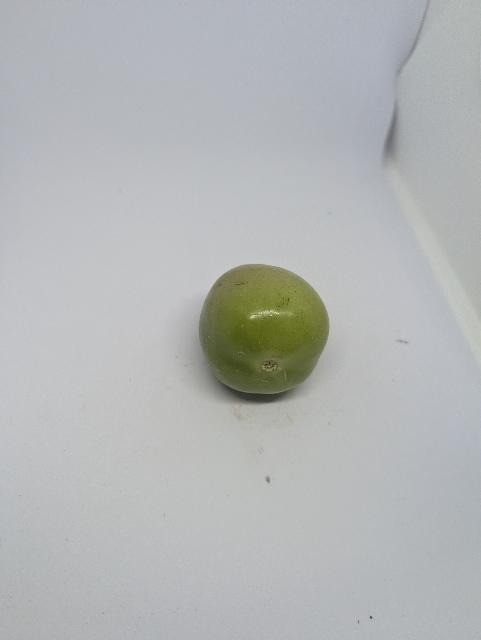green: (187, 250, 332, 413)
